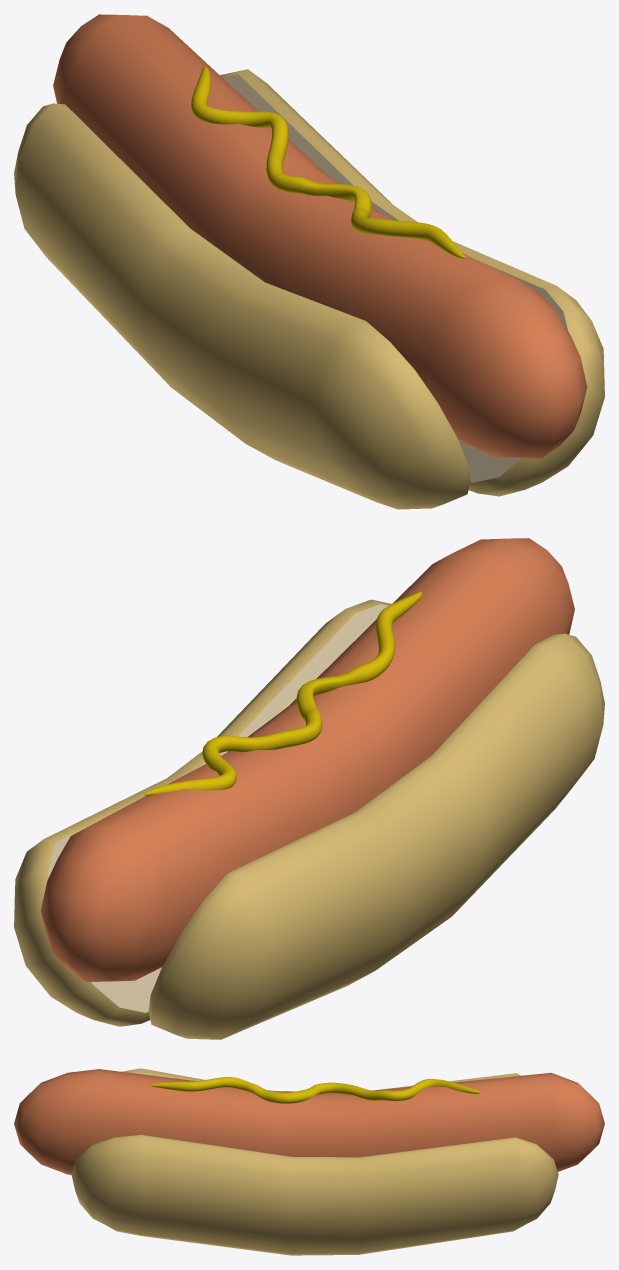
The model's file is hotdog.fbx.
3 views of the same model, one above another, from view 1: azimuth 30°, elevation 25°; view 2: azimuth 150°, elevation 25°; view 3: azimuth 270°, elevation 25° (orthographic). The views are drawn at different scales.
Parts seen in each view (by area): view 1: Cube.003, Cube.002, Cube.001, BezierCurve, Cube.005; view 2: Cube.003, Cube.002, Cube.001, BezierCurve, Cube.005; view 3: Cube.001, Cube.003, BezierCurve, Cube.002.
Part boxes in pixels (x1,y1,x2,y2): Cube.003: (53,14,587,458); Cube.002: (14,103,470,509); Cube.001: (220,69,604,496); BezierCurve: (191,66,466,258); Cube.005: (222,74,567,482); Cube.003: (40,538,574,981); Cube.002: (148,633,604,1039); Cube.001: (14,599,391,1026); BezierCurve: (144,591,422,795); Cube.005: (48,604,387,1012); Cube.001: (71,1135,558,1255); Cube.003: (14,1069,604,1174); BezierCurve: (150,1077,481,1103); Cube.002: (122,1068,520,1091).
Bounding box in the file's own units: 175 × 163 × 523.
